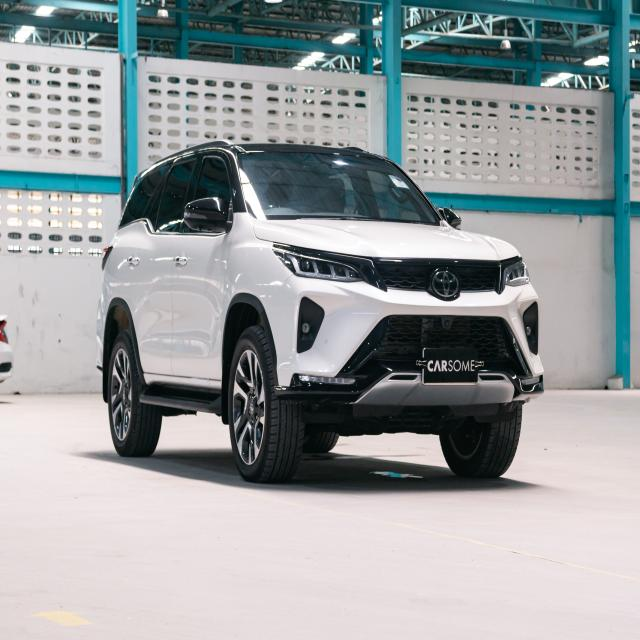light_vehicle: (95, 140, 545, 484)
